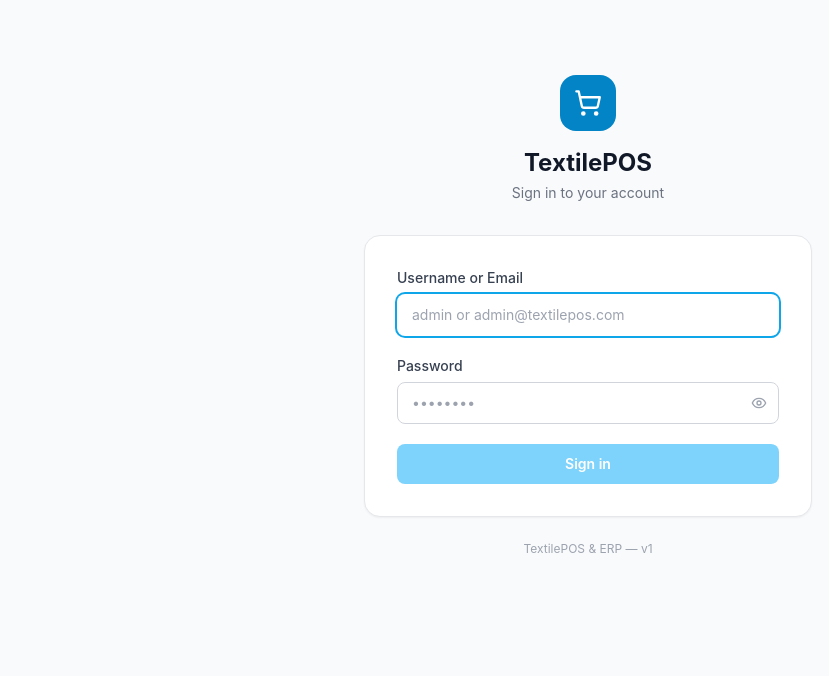
Scenario: Login › shows the server error and stays signed out on bad credentials
Type "cashier" into the field labelled "Username or Email" at (588,315), box [397,294,779,336]
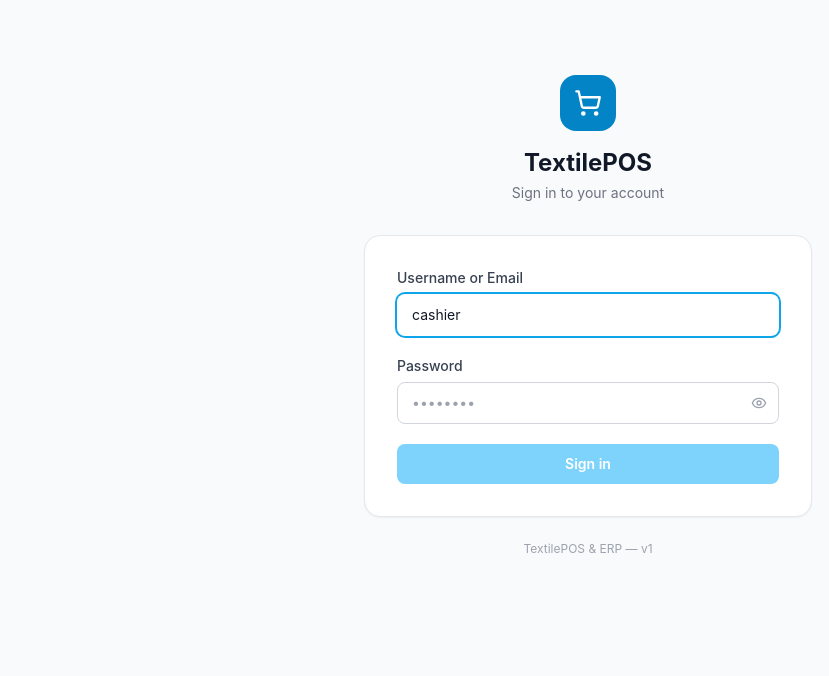
Type "wrong" into the password field labelled "Password" at (588,403), box [397,382,779,424]
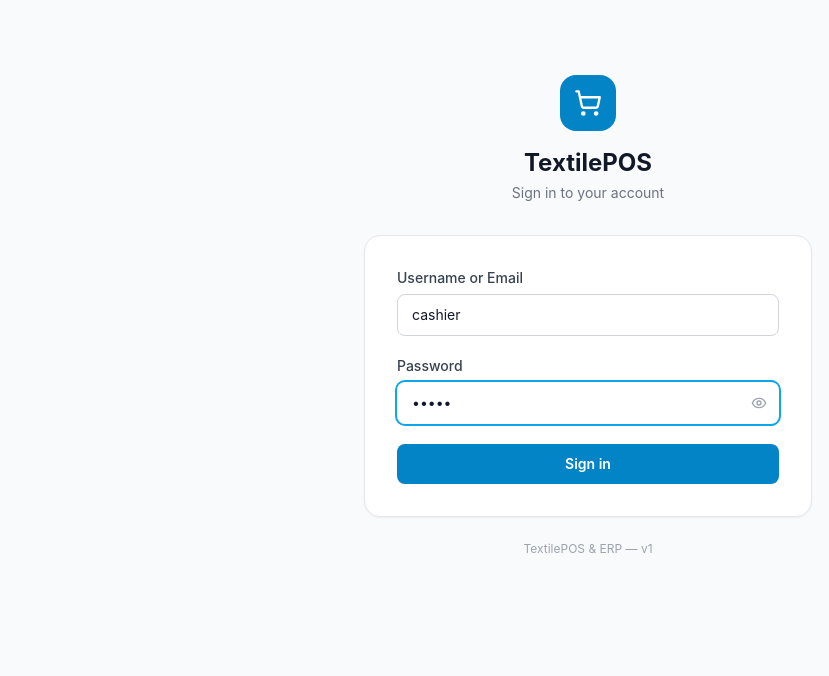
Click the button "Sign in" at (588,464), box [397,444,779,484]
(page scrolled)
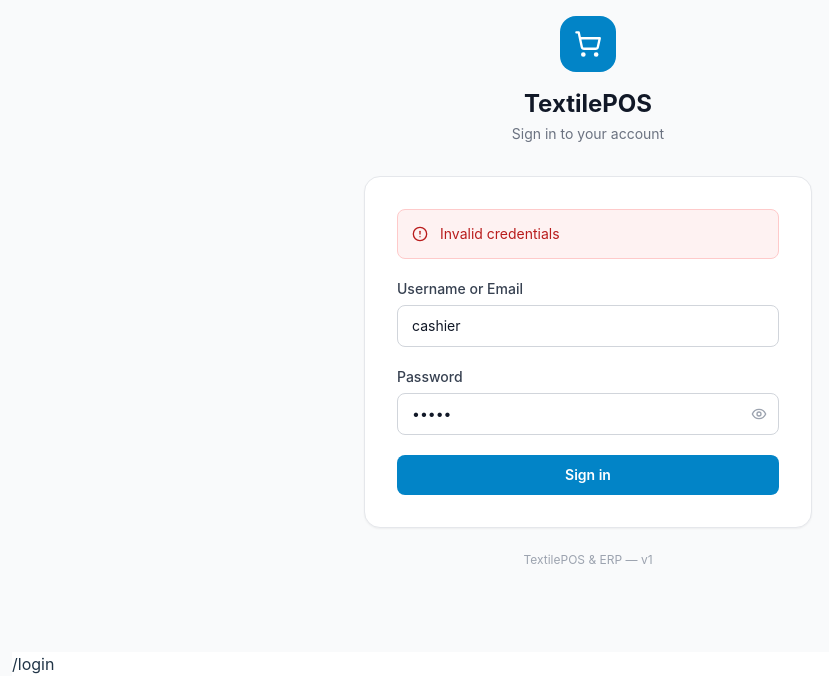
Check: the text with test id "location" reads "/login", box [12,654,54,674]
Check: the text "Invalid credentials" is shown, box [440,224,560,244]
